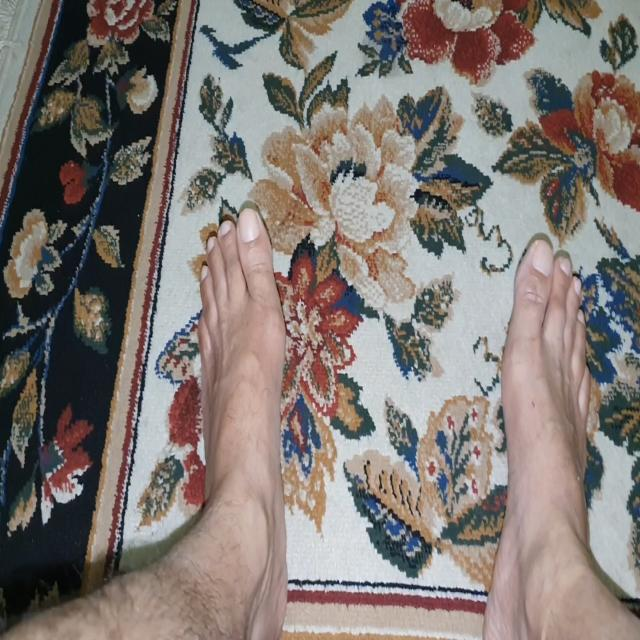no-boots: (489, 226, 634, 640), (193, 203, 291, 640)
